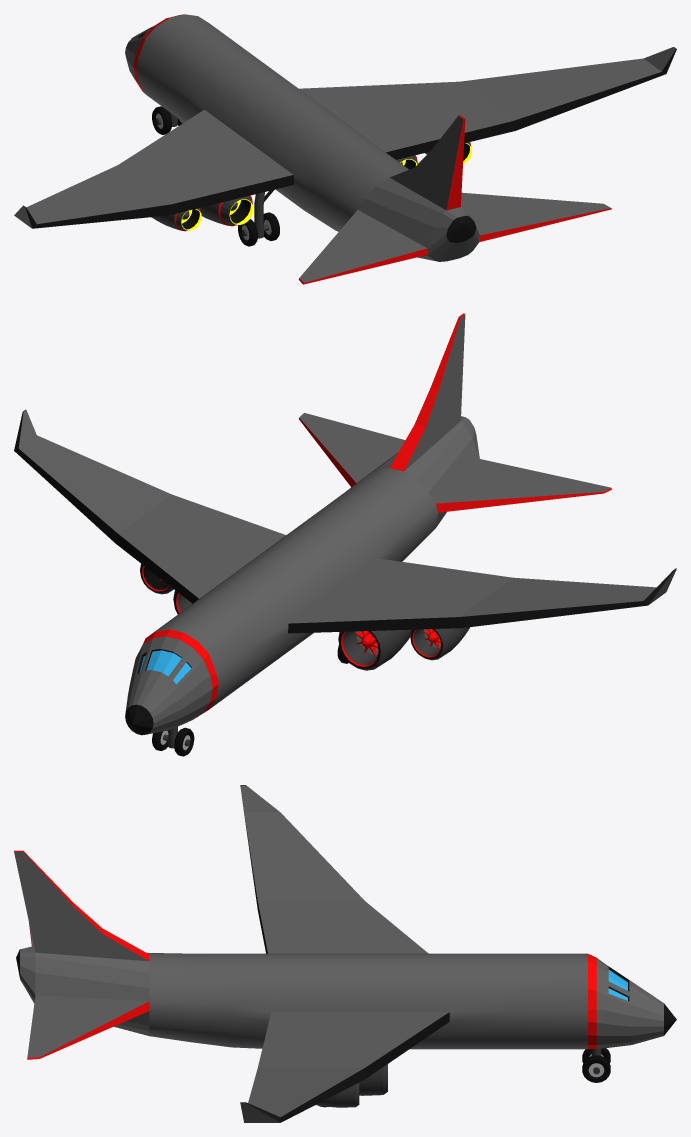
The picture shows the model from 3 angles, top to bottom: view 1: azimuth 30°, elevation 25°; view 2: azimuth 150°, elevation 25°; view 3: azimuth 270°, elevation 25°; orthographic projection.
Visible parts, largest first — view 1: Pllane Base, Cylinder005, Cylinder007, Cylinder004, Cylinder010, Cylinder011; view 2: Pllane Base, Cylinder005, Cylinder007; view 3: Pllane Base, Cylinder003, Cylinder008, Cylinder009.
Part boxes in pixels (x1,y1,x2,y2): Pllane Base: (14,14,676,284); Cylinder005: (200,195,253,226); Cylinder007: (151,208,201,231); Cylinder004: (152,106,171,134); Cylinder010: (254,192,269,238); Cylinder011: (238,219,257,246); Pllane Base: (14,313,676,735); Cylinder005: (338,629,410,670); Cylinder007: (410,627,469,660); Pllane Base: (14,785,676,1122); Cylinder003: (582,1055,610,1082); Cylinder008: (359,1064,387,1095); Cylinder009: (316,1083,359,1107).
Size of the model in its own units: 301 by 99.6 by 265.
